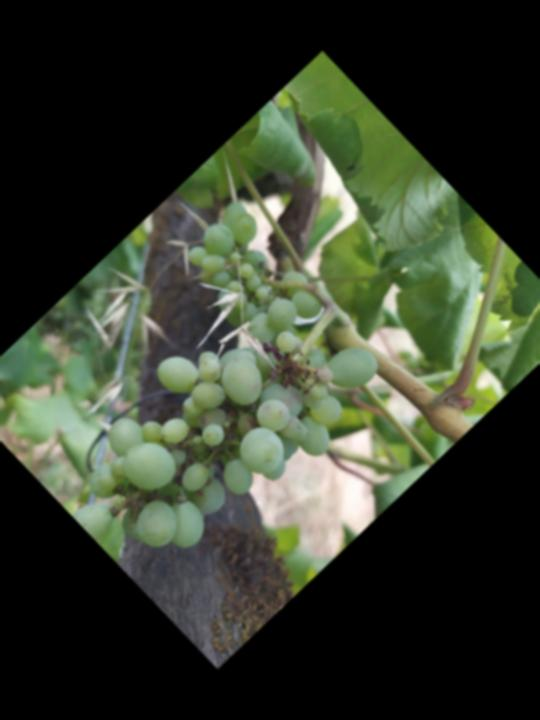grape: (37, 250, 403, 611)
